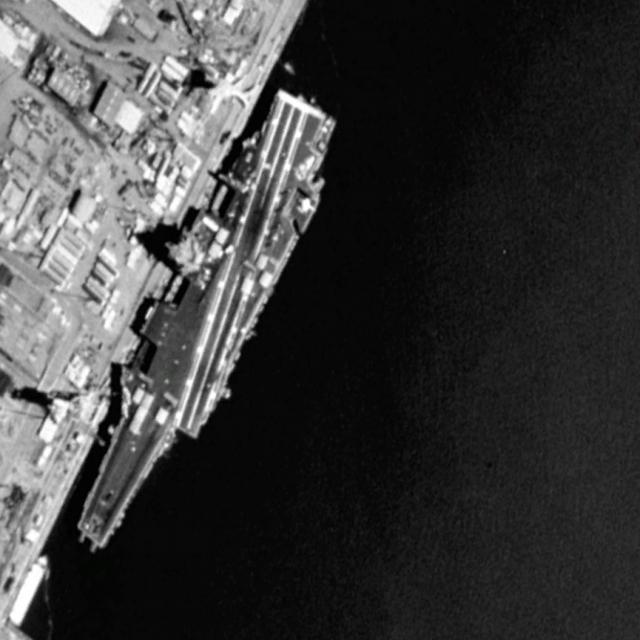Aircraft Carrier: (44, 59, 351, 585)
